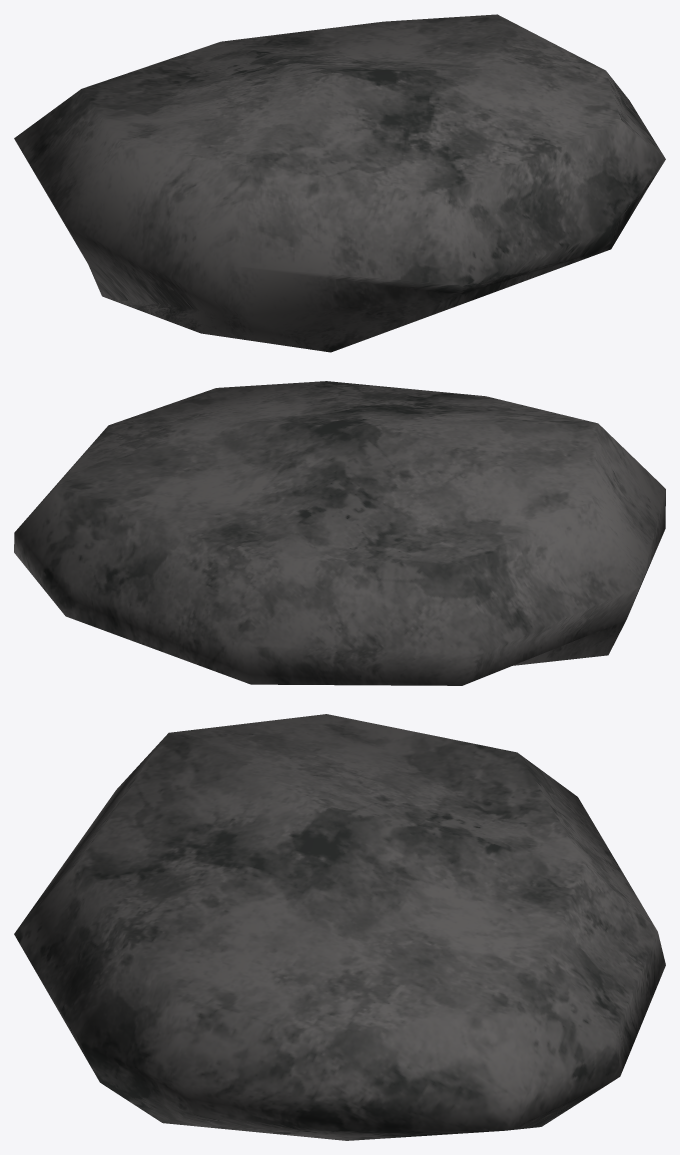
The model's file is rock03.glb.
3 renders of one model, top to bottom at view 1: azimuth 30°, elevation 25°; view 2: azimuth 150°, elevation 25°; view 3: azimuth 270°, elevation 25°, orthographic. The views are drawn at different scales.
Visible parts, largest first — view 1: Cube; view 2: Cube; view 3: Cube.
Boxes of the visible parts, x1,y1,x2,y2 form: Cube: (14, 14, 665, 352); Cube: (14, 381, 665, 685); Cube: (14, 714, 665, 1140).
Bounding box in the file's own units: 4.52 × 1.39 × 3.92.
1 material, 1 textured.
